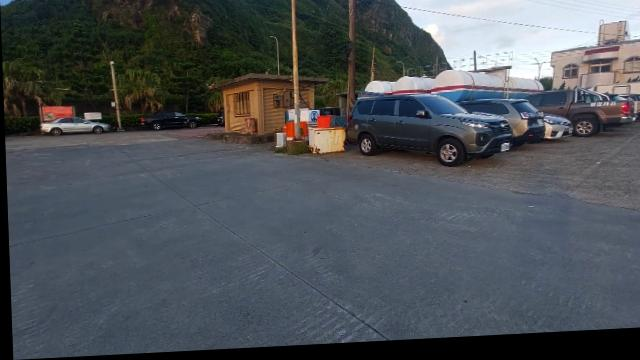pollute: (307, 131, 345, 158), (316, 117, 345, 131), (299, 113, 320, 129), (274, 135, 286, 152), (299, 124, 307, 142), (284, 111, 292, 126), (286, 126, 293, 141)
